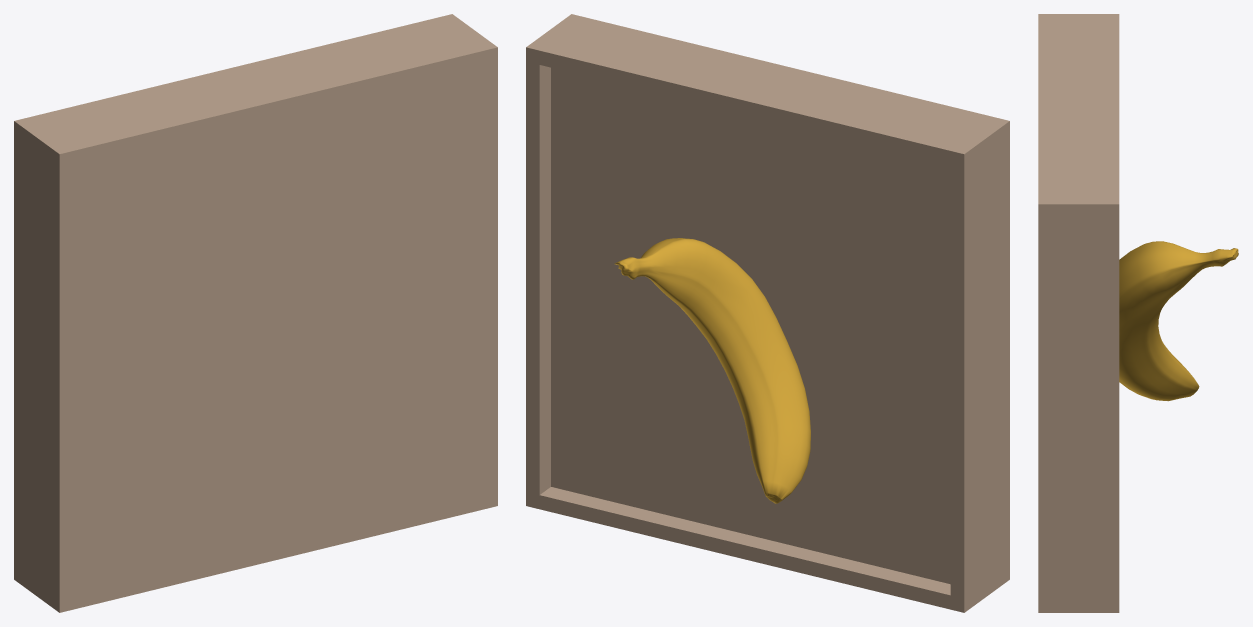
File: banana.dae
The picture shows the model from 3 angles, left to right: view 1: azimuth 30°, elevation 25°; view 2: azimuth 150°, elevation 25°; view 3: azimuth 270°, elevation 25°; orthographic projection. The views are drawn at different scales.
Visible parts, largest first — view 1: Base; view 2: Base, Banana; view 3: Base, Banana.
Part boxes in pixels (<box>): Base: <box>14,14,497,612</box>; Base: <box>526,14,1009,612</box>; Banana: <box>614,238,810,503</box>; Base: <box>1038,14,1119,612</box>; Banana: <box>1119,241,1238,401</box>.
Bounding box in the file's own units: 1.29 × 0.575 × 1.29.
